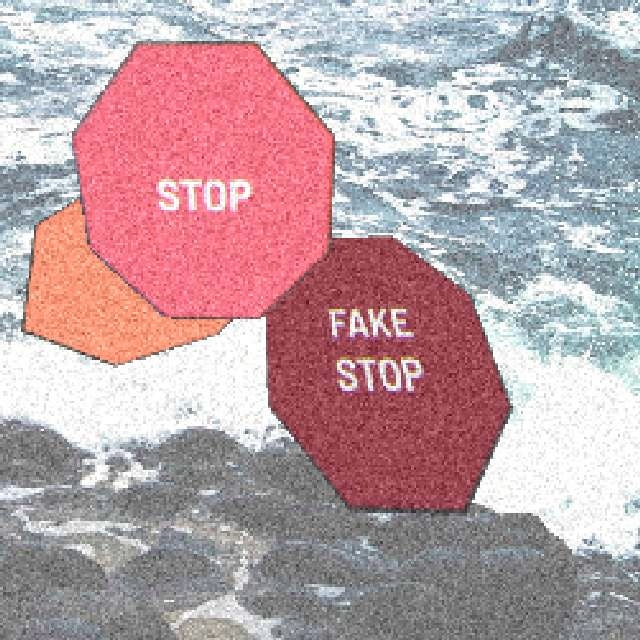FAKE_STOP: (262, 233, 511, 513)
STOP: (68, 38, 334, 318), (18, 147, 298, 365)
